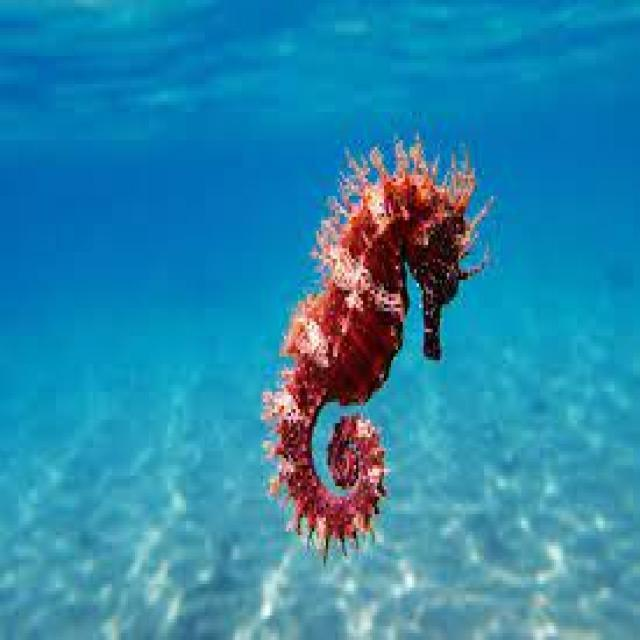SeaHorse: (263, 136, 482, 560)
